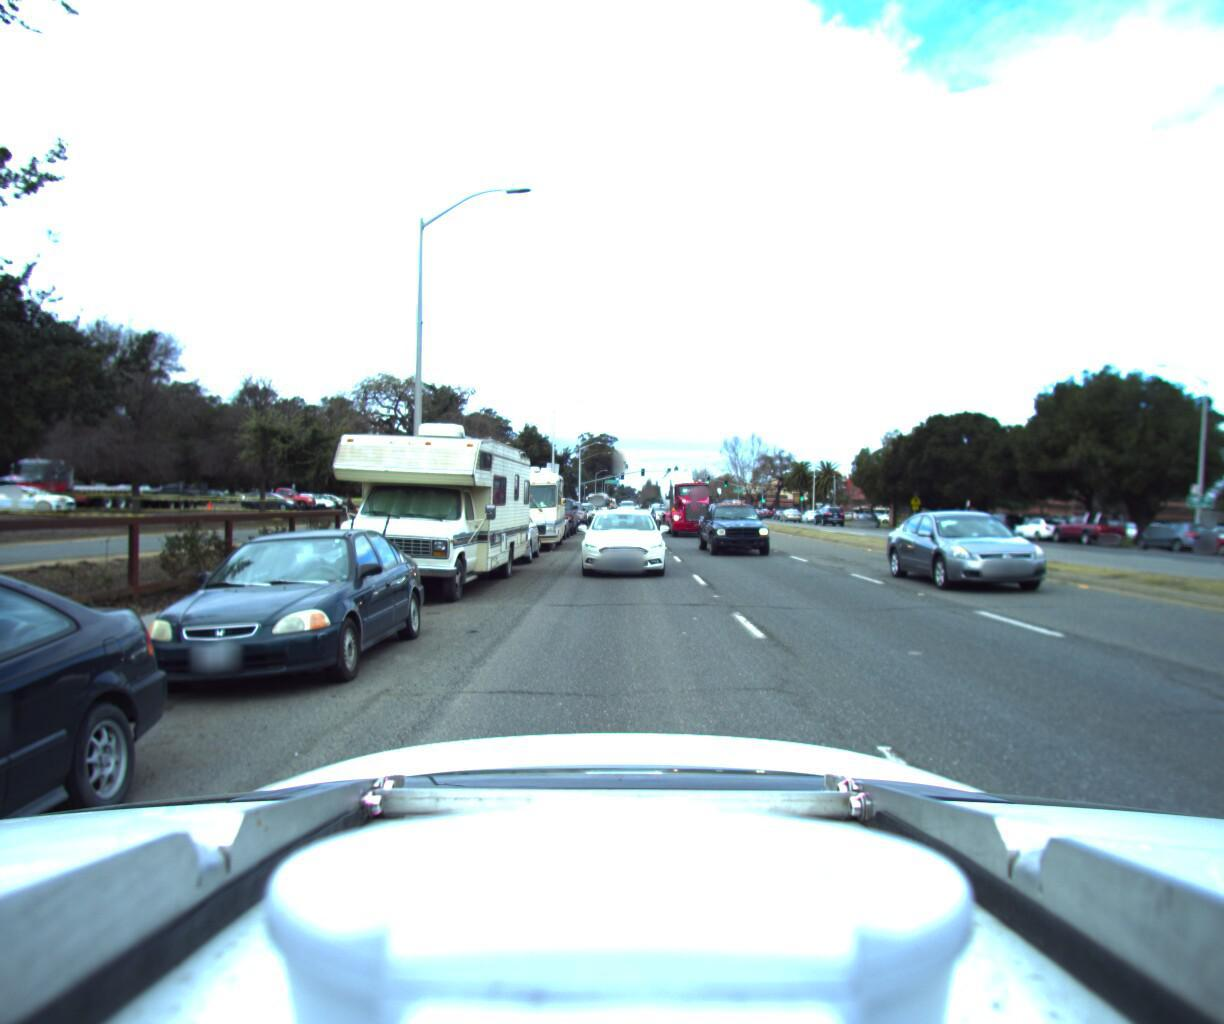car: (0, 536, 169, 1024), (98, 515, 430, 720), (900, 503, 1110, 601), (574, 498, 670, 576), (695, 493, 776, 557), (1123, 507, 1224, 553), (460, 513, 542, 564), (1050, 500, 1135, 543), (1009, 510, 1078, 540), (535, 492, 580, 534), (551, 492, 587, 529), (1209, 515, 1224, 560), (811, 503, 842, 522), (848, 504, 879, 522)
other_vehicle: (305, 395, 537, 600), (478, 454, 569, 550)
truck: (653, 453, 722, 538)
